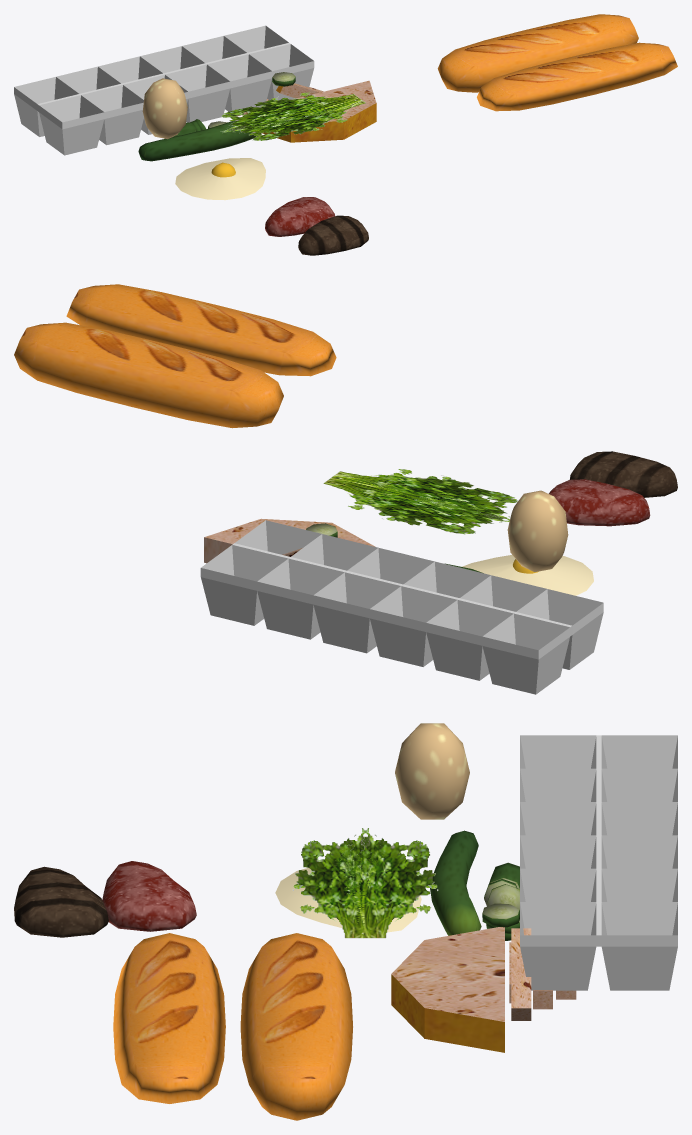
Rendered from Foods.fbx.
3 renders of one model, top to bottom at view 1: azimuth 30°, elevation 25°; view 2: azimuth 150°, elevation 25°; view 3: azimuth 270°, elevation 25°, orthographic. The views are drawn at different scales.
Parts seen in each view (by area): view 1: Khay, HalfBread, Bread, Rau, TrungRan, ChaThit, CucumberS, Trung, CookedMeat, RawMeat, Chas; view 2: Khay, Bread, HalfBread, Rau, Trung, RawMeat, CookedMeat, TrungRan, ChaThit; view 3: Khay, Bread, HalfBread, ChaThit, Rau, Trung, CookedMeat, RawMeat, CucumberS, Chas, TrungRan, CucumberCs (+1 smaller).
Part boxes in pixels (x1,y1,x2,y2): Khay: [14, 25, 314, 155]; HalfBread: [477, 42, 677, 111]; Bread: [437, 14, 638, 92]; Rau: [220, 92, 365, 140]; TrungRan: [175, 158, 265, 200]; ChaThit: [262, 80, 376, 142]; CucumberS: [138, 121, 255, 161]; Trung: [142, 78, 187, 139]; CookedMeat: [298, 215, 368, 255]; RawMeat: [265, 197, 334, 236]; Chas: [246, 83, 323, 113]; Khay: [200, 520, 603, 694]; Bread: [14, 322, 283, 428]; HalfBread: [66, 284, 336, 376]; Rau: [323, 469, 517, 534]; Trung: [507, 490, 568, 572]; RawMeat: [549, 479, 650, 526]; CookedMeat: [569, 451, 677, 497]; TrungRan: [462, 555, 593, 595]; ChaThit: [204, 518, 375, 563]; Khay: [520, 735, 677, 990]; Bread: [240, 933, 352, 1120]; HalfBread: [113, 933, 225, 1103]; ChaThit: [391, 927, 504, 1052]; Rau: [292, 828, 438, 938]; Trung: [395, 723, 469, 819]; CookedMeat: [14, 866, 108, 937]; RawMeat: [102, 861, 196, 931]; CucumberS: [430, 830, 481, 935]; Chas: [509, 928, 552, 1020]; TrungRan: [275, 867, 421, 932]; CucumberCs: [484, 862, 519, 940].
Size of the model in its own units: 67.37 by 11.65 by 47.14.
12 materials, 9 textured.
